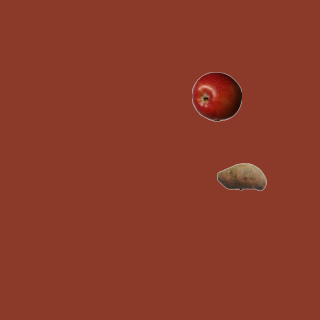Apple Braeburn: (191, 71, 241, 121)
Potato Sweet: (216, 151, 266, 201)
